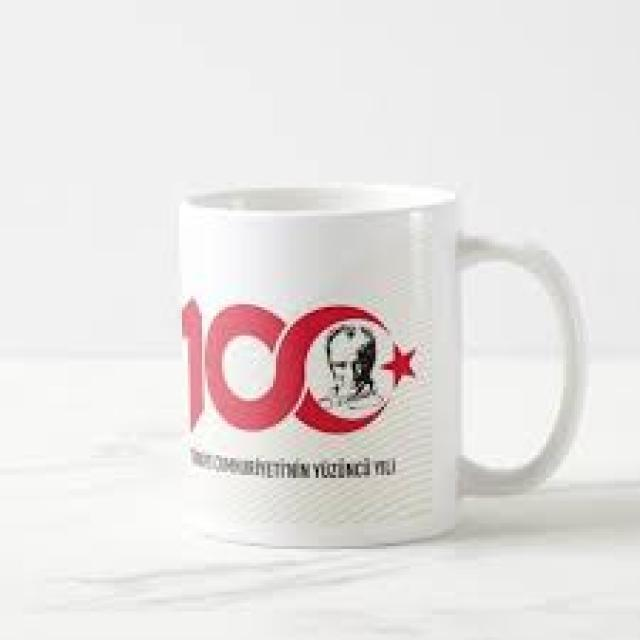taza: (180, 184, 588, 550)
